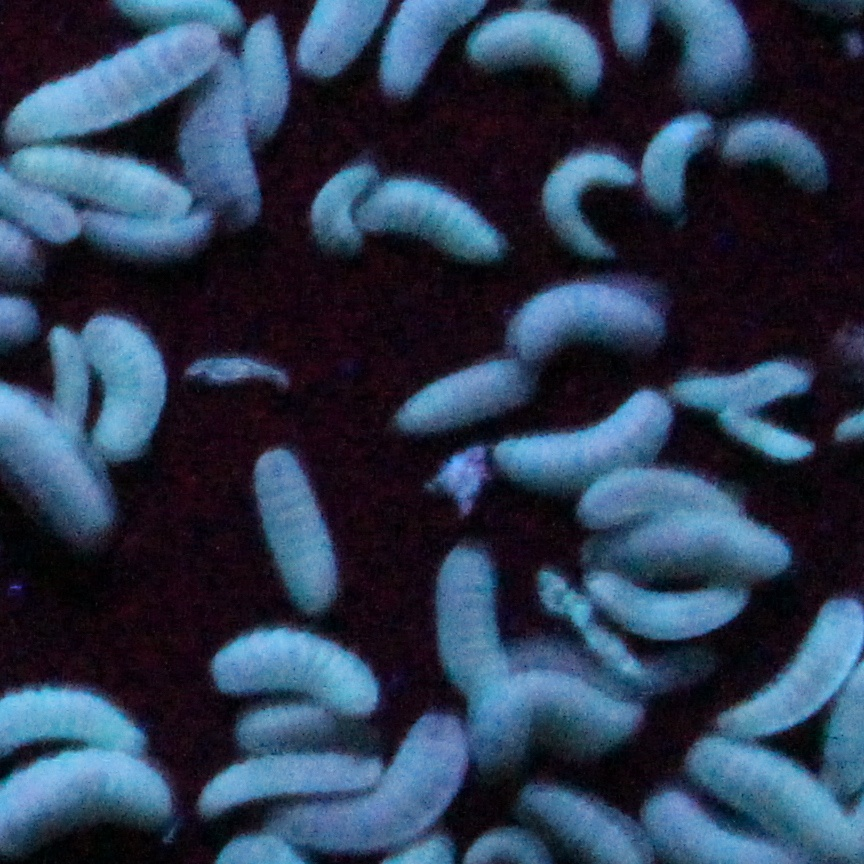larve: (17, 24, 213, 141), (293, 721, 464, 839), (465, 675, 654, 770), (701, 739, 854, 853), (195, 620, 378, 707), (584, 511, 803, 578), (8, 146, 198, 221), (249, 449, 337, 606), (514, 404, 670, 489), (76, 314, 165, 454), (581, 568, 747, 639), (528, 148, 634, 255), (430, 548, 508, 689), (502, 291, 662, 353), (198, 748, 381, 800), (363, 189, 491, 261), (400, 361, 528, 432), (489, 11, 593, 90), (635, 119, 713, 219), (723, 114, 832, 181), (674, 369, 815, 409), (240, 29, 296, 125), (719, 414, 817, 466), (310, 171, 362, 247)
